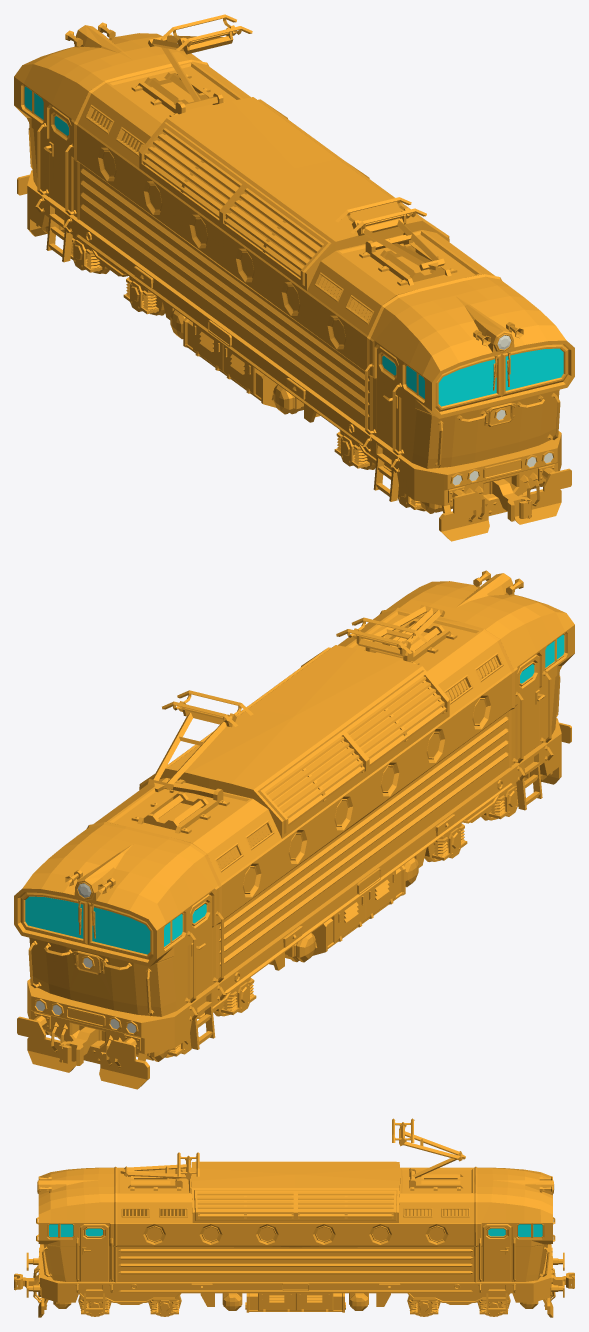
The model's file is SM_Train_Locomotive_Travel_B.fbx.
The picture shows the model from 3 angles, top to bottom: view 1: azimuth 30°, elevation 25°; view 2: azimuth 150°, elevation 25°; view 3: azimuth 270°, elevation 25°; orthographic projection. The views are drawn at different scales.
Parts seen in each view (by area): view 1: SM_Train_Locomotive_Travel_B_Base, SM_Train_Locomotive_Travel_B_Base_Chassis_B, SM_Train_Locomotive_Travel_B_Base_Chassis_F, SM_Train_Locomotive_Travel_B_Base_Joint_F; view 2: SM_Train_Locomotive_Travel_B_Base, SM_Train_Locomotive_Travel_B_Base_Chassis_F, SM_Train_Locomotive_Travel_B_Base_Chassis_B, SM_Train_Locomotive_Travel_B_Base_Joint_B; view 3: SM_Train_Locomotive_Travel_B_Base, SM_Train_Locomotive_Travel_B_Base_Chassis_B, SM_Train_Locomotive_Travel_B_Base_Chassis_F, SM_Train_Locomotive_Travel_B_Base_Joint_F, SM_Train_Locomotive_Travel_B_Base_Joint_B.
Boxes of the visible parts, x1,y1,x2,y2 form: SM_Train_Locomotive_Travel_B_Base: [14, 14, 574, 541]; SM_Train_Locomotive_Travel_B_Base_Chassis_B: [70, 235, 158, 314]; SM_Train_Locomotive_Travel_B_Base_Chassis_F: [334, 430, 422, 509]; SM_Train_Locomotive_Travel_B_Base_Joint_F: [489, 479, 531, 521]; SM_Train_Locomotive_Travel_B_Base: [14, 570, 574, 1089]; SM_Train_Locomotive_Travel_B_Base_Chassis_F: [432, 782, 518, 860]; SM_Train_Locomotive_Travel_B_Base_Chassis_B: [167, 977, 256, 1056]; SM_Train_Locomotive_Travel_B_Base_Joint_B: [59, 1027, 101, 1065]; SM_Train_Locomotive_Travel_B_Base: [26, 1118, 564, 1317]; SM_Train_Locomotive_Travel_B_Base_Chassis_B: [407, 1293, 510, 1316]; SM_Train_Locomotive_Travel_B_Base_Chassis_F: [79, 1293, 181, 1316]; SM_Train_Locomotive_Travel_B_Base_Joint_F: [14, 1273, 38, 1290]; SM_Train_Locomotive_Travel_B_Base_Joint_B: [552, 1272, 574, 1288].
Bounding box in the file's own units: 3.32 × 5.68 × 16.1.
